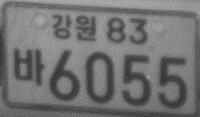0: (83, 50, 116, 105)
3: (128, 16, 149, 45)
5: (120, 53, 152, 106), (156, 56, 188, 109)
6: (48, 49, 81, 102)
8: (105, 16, 126, 44)
강원_H: (51, 13, 97, 42)
바: (13, 47, 46, 87)
